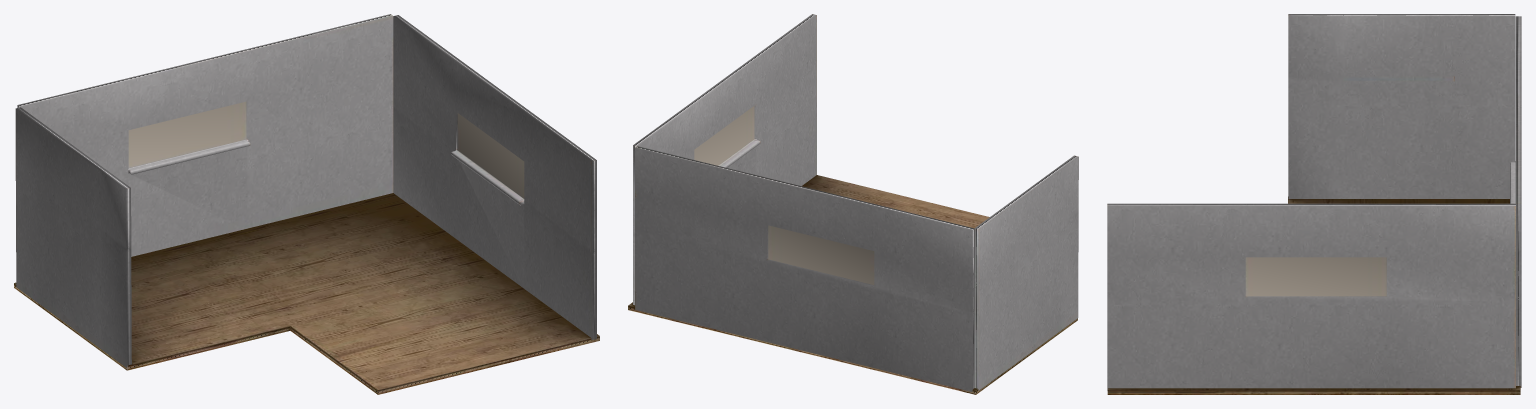
Rendered from room-transformed.glb.
3 renders of one model, left to right at view 1: azimuth 30°, elevation 25°; view 2: azimuth 150°, elevation 25°; view 3: azimuth 270°, elevation 25°, orthographic. The views are drawn at different scales.
Parts seen in each view (by area): view 1: Object_2; view 2: Object_2; view 3: Object_2.
Part boxes in pixels (bbox=[...]): Object_2: bbox=[14, 14, 599, 394]; Object_2: bbox=[628, 14, 1078, 394]; Object_2: bbox=[1107, 14, 1521, 394].
Bounding box in the file's own units: 380 × 171 × 343.
1 material, 1 textured.
